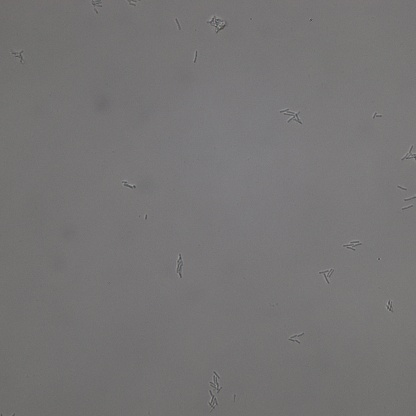R(colony): (279, 107, 303, 124), (209, 371, 224, 392), (318, 268, 336, 285), (344, 238, 362, 252), (207, 393, 219, 413), (289, 332, 305, 345)
